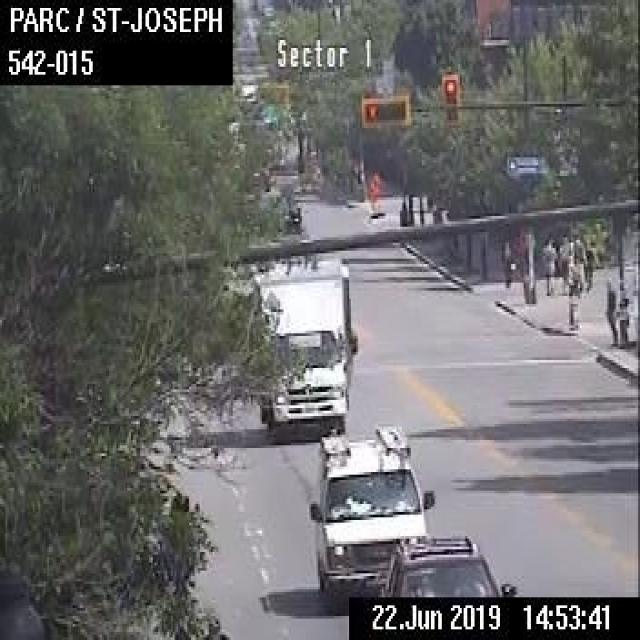construction: (366, 171, 382, 217)
pedestrian: (603, 274, 618, 346), (570, 232, 586, 296), (539, 235, 555, 293), (556, 234, 570, 292), (585, 237, 598, 289)
vehicle: (306, 424, 434, 606), (251, 258, 356, 441), (375, 538, 517, 596)
